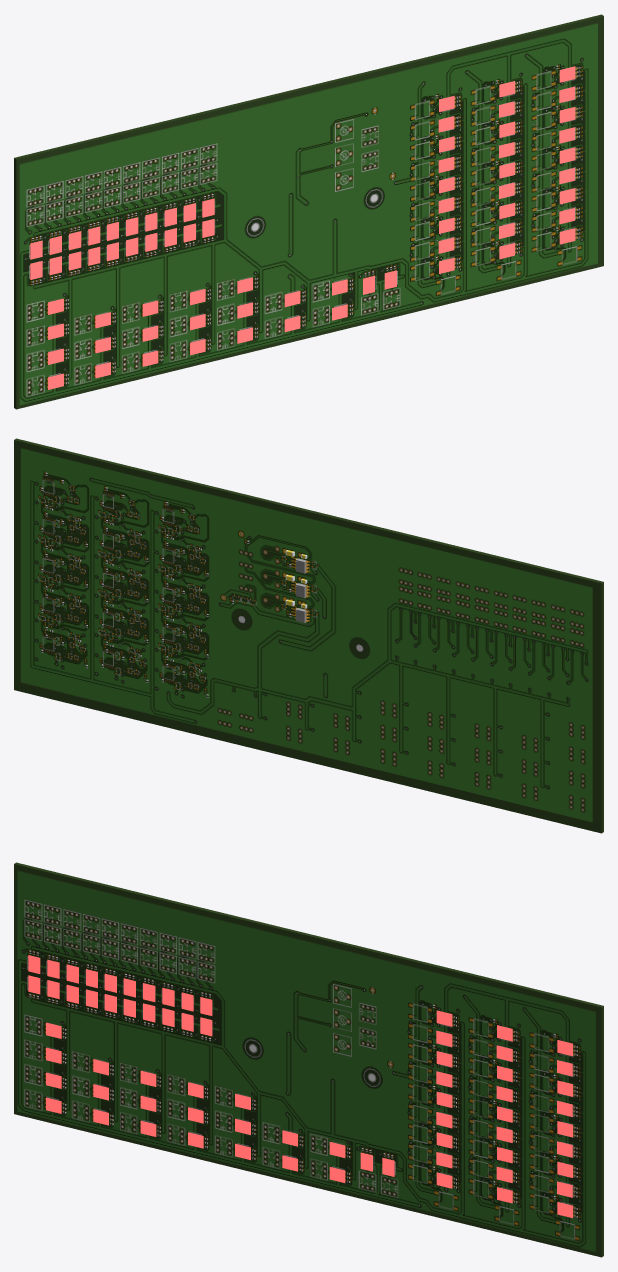
The model's file is tracker.glb.
3 views of the same model, one above another, from view 1: azimuth 30°, elevation 25°; view 2: azimuth 150°, elevation 25°; view 3: azimuth 330°, elevation 25° (orthographic).
Parts seen in each view (by area): view 1: Cube; view 2: Cube; view 3: Cube.
Boxes of the visible parts, x1,y1,x2,y2 form: Cube: [14, 14, 603, 409]; Cube: [14, 438, 603, 833]; Cube: [14, 862, 603, 1257].
Bounding box in the file's own units: 2.48 × 1.01 × 0.0376.
9 materials, 1 textured.
